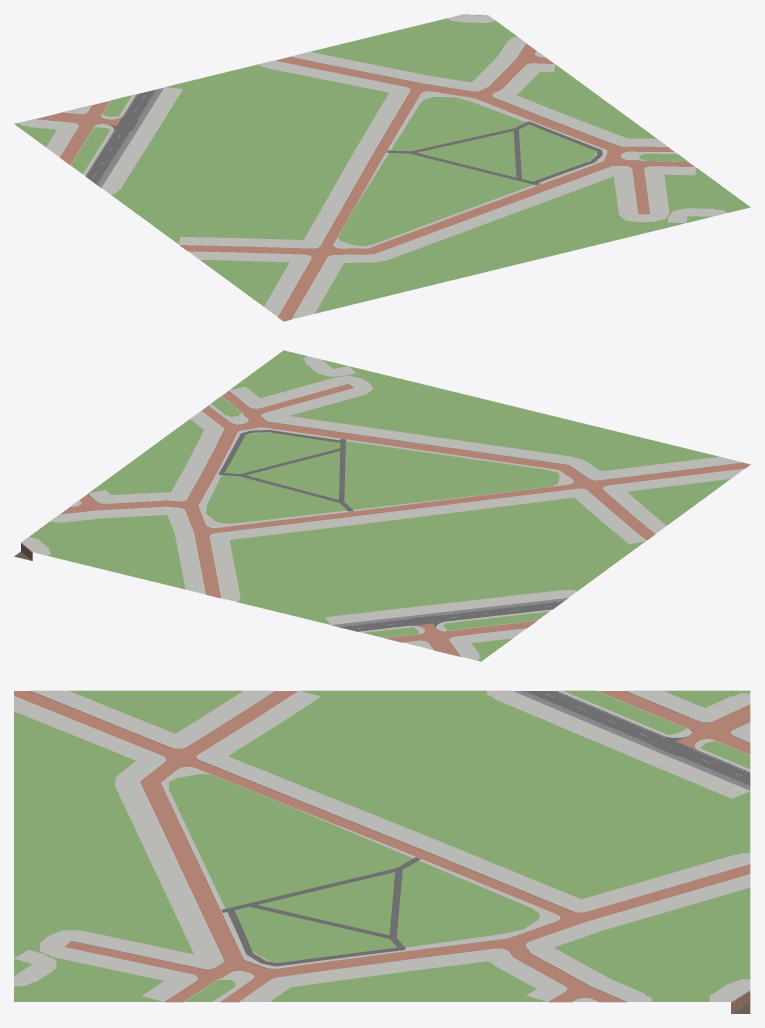
The model's file is ground_5_9.glb.
3 views of the same model, one above another, from view 1: azimuth 30°, elevation 25°; view 2: azimuth 150°, elevation 25°; view 3: azimuth 270°, elevation 25° (orthographic). The views are drawn at different scales.
Parts seen in each view (by area): view 1: ground_5_9; view 2: ground_5_9; view 3: ground_5_9.
Part boxes in pixels (x1=…): ground_5_9: x1=14, y1=14, x2=750, y2=321; ground_5_9: x1=14, y1=350, x2=750, y2=661; ground_5_9: x1=14, y1=690, x2=750, y2=1013.
Bounding box in the file's own units: 201 × 3.68 × 200.
